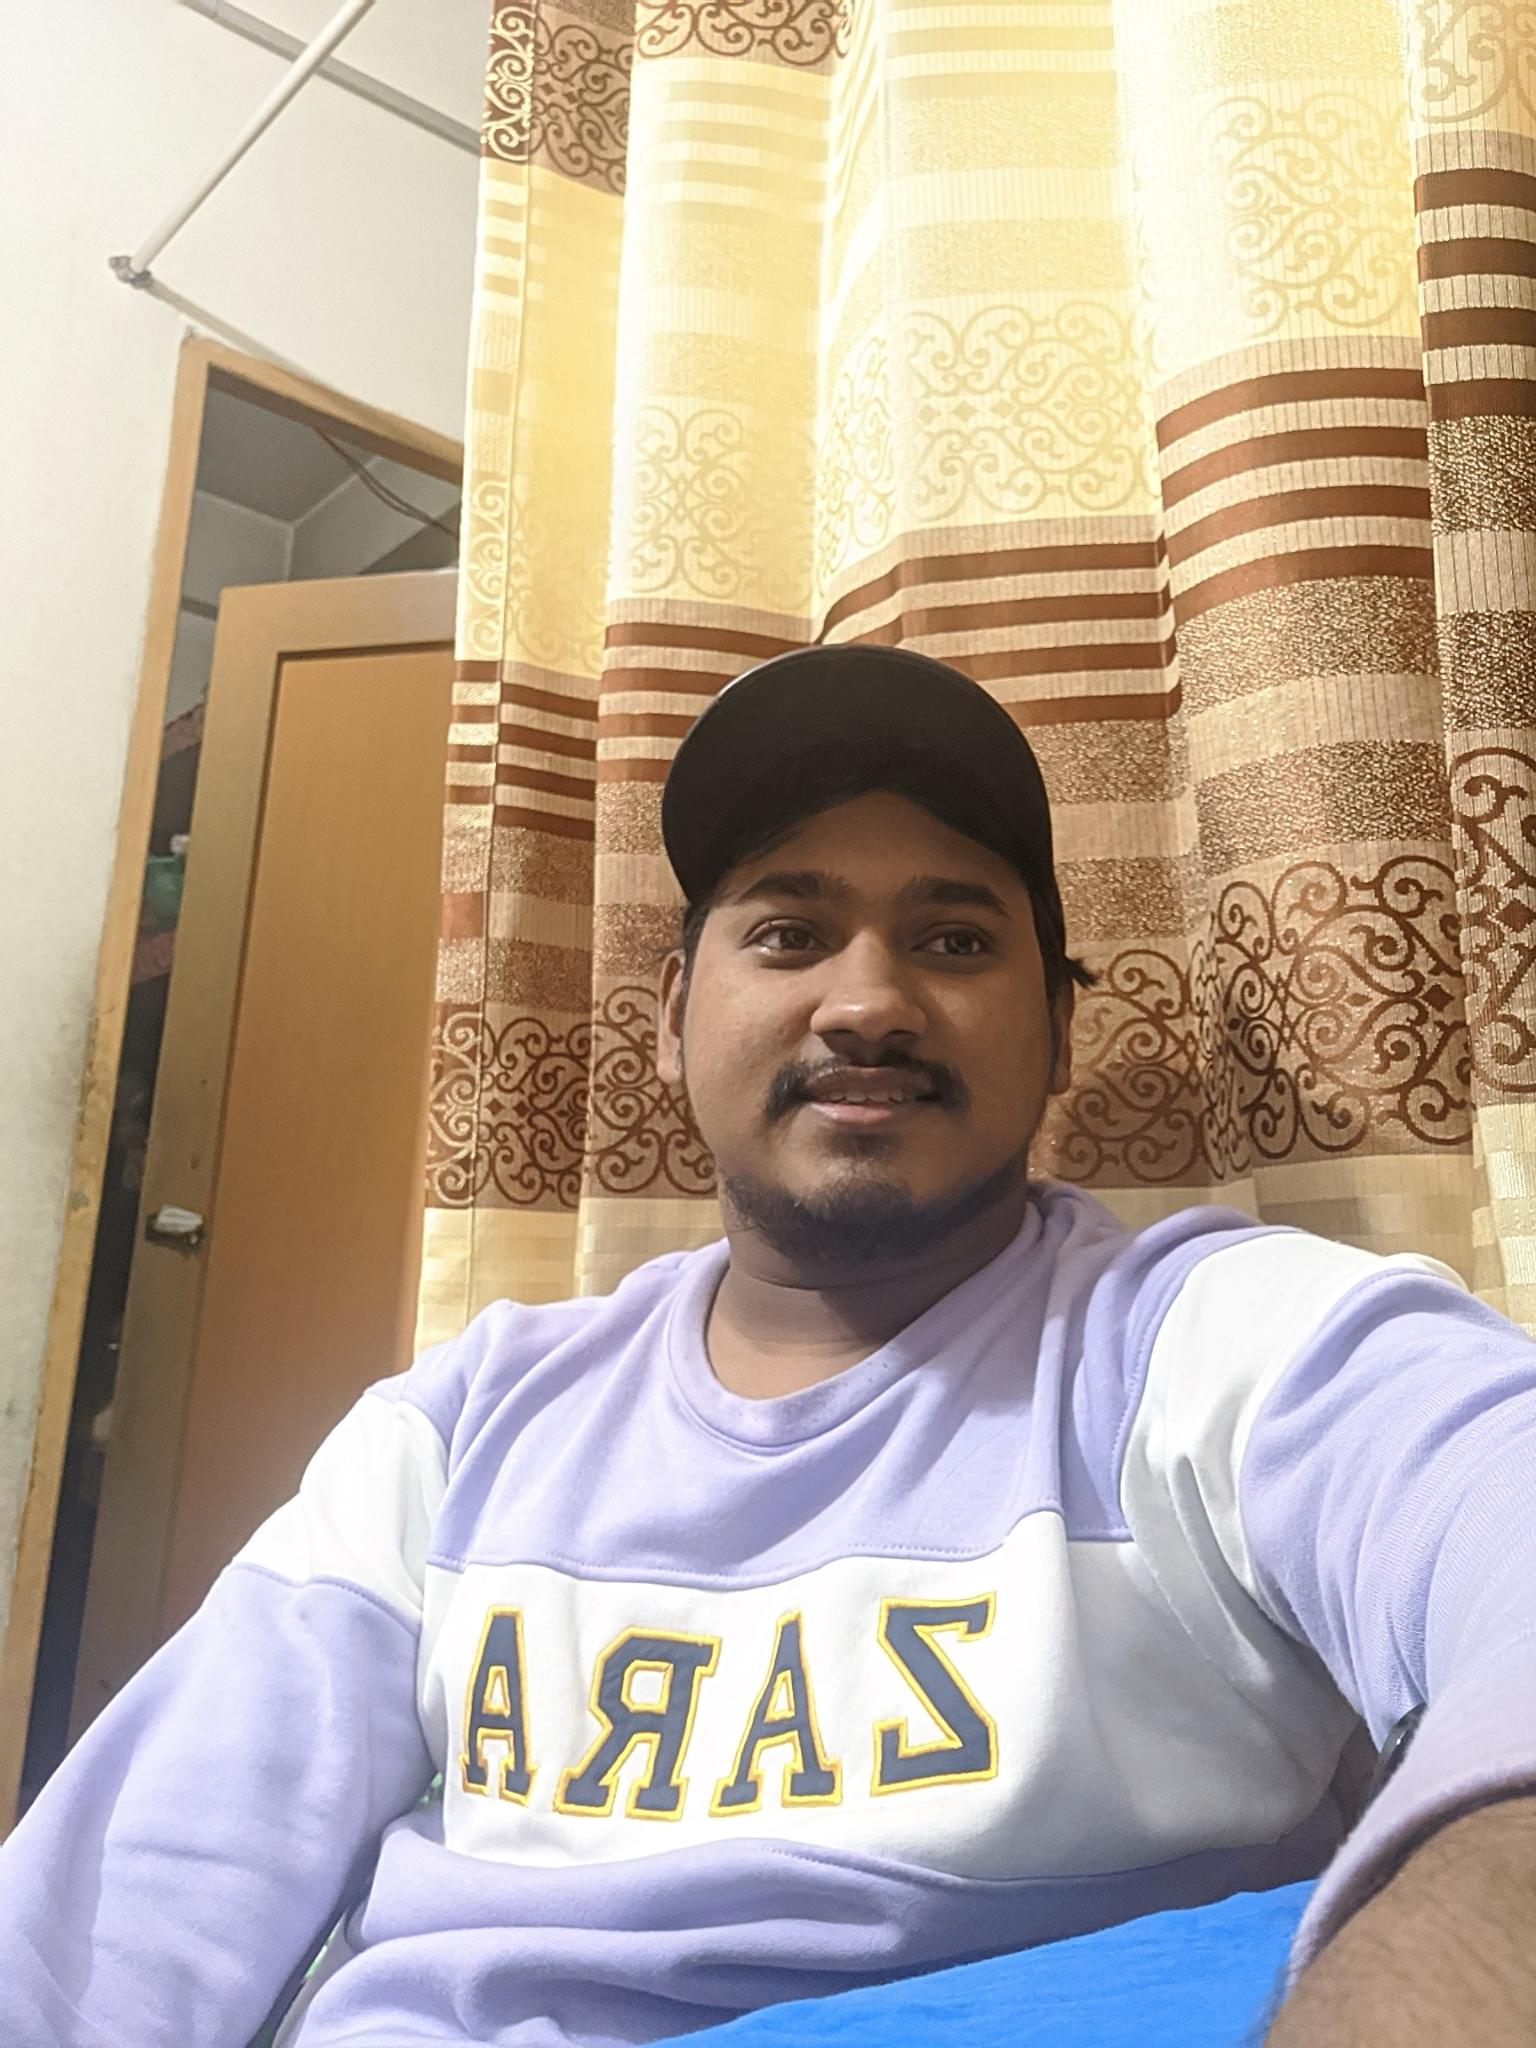Happy: (658, 811, 1055, 1234)
